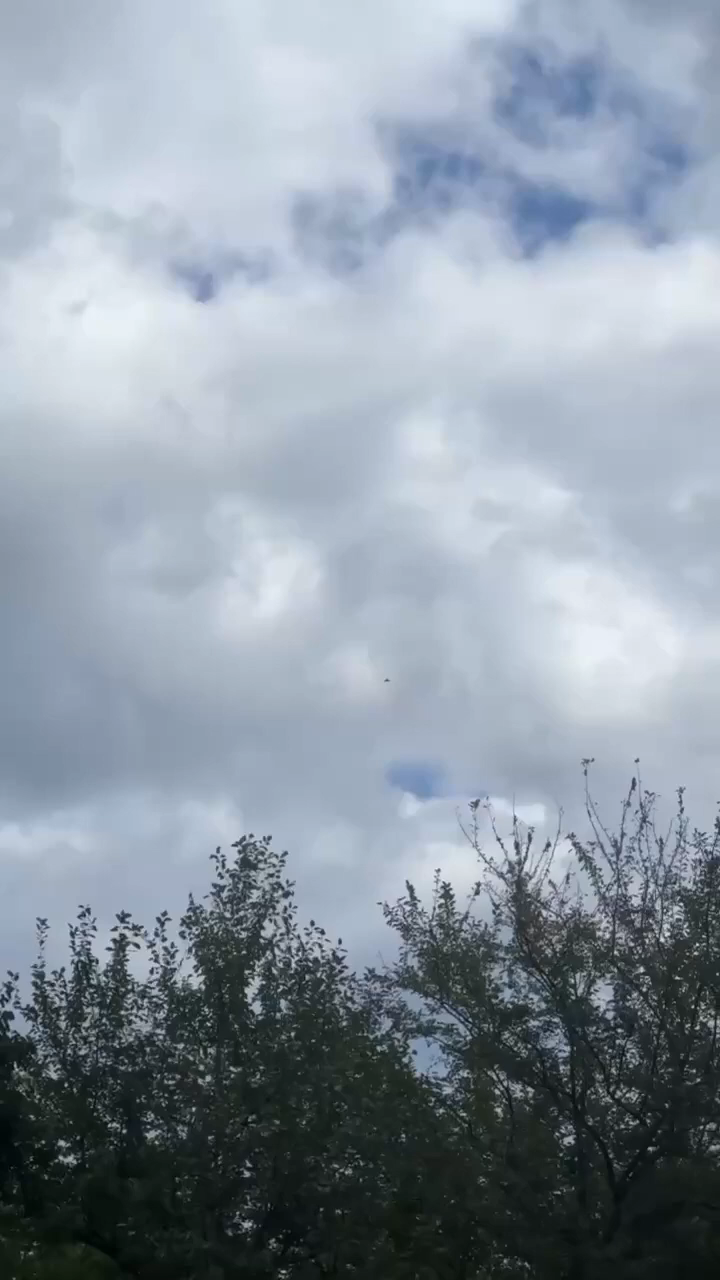shahed: (383, 676, 392, 684)
